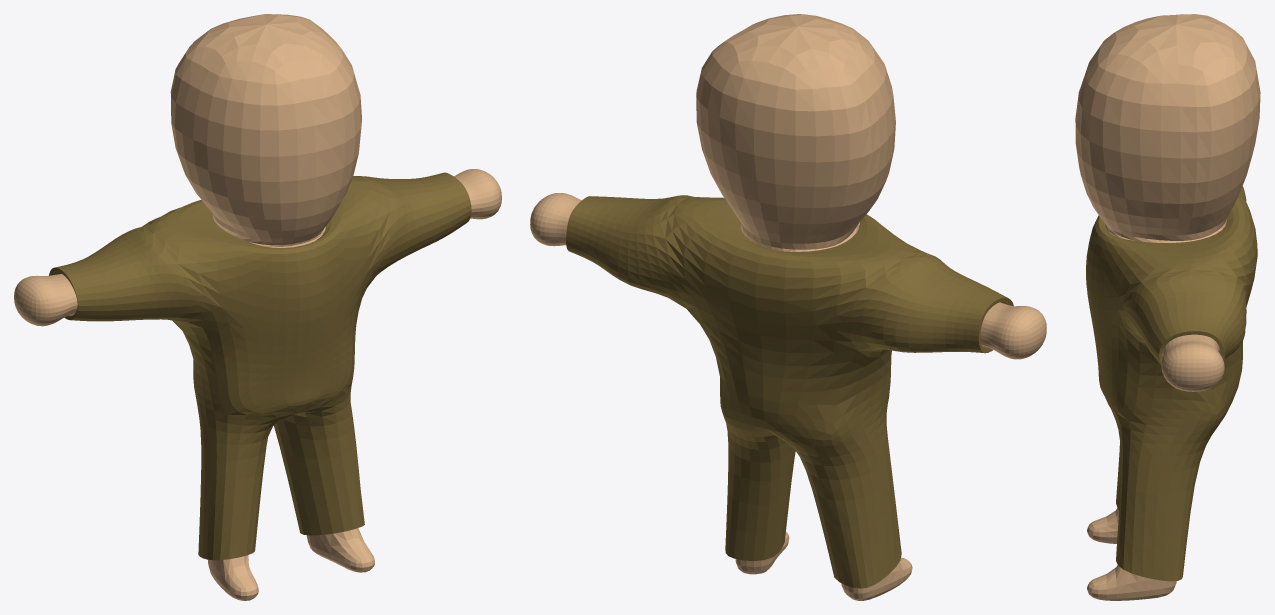
File: starting_guy.fbx
3 renders of one model, left to right at view 1: azimuth 30°, elevation 25°; view 2: azimuth 150°, elevation 25°; view 3: azimuth 270°, elevation 25°, orthographic. The views are drawn at different scales.
Parts seen in each view (by area): view 1: Layer 01, Object_3; view 2: Layer 01, Object_3; view 3: Object_3, Layer 01.
Boxes of the visible parts, x1,y1,x2,y2 form: Layer 01: [49, 172, 471, 560]; Object_3: [14, 14, 501, 600]; Layer 01: [566, 195, 1013, 588]; Object_3: [530, 14, 1046, 600]; Object_3: [1075, 14, 1260, 600]; Layer 01: [1086, 186, 1257, 581].
Size of the model in its own units: 654 by 216 by 703.
